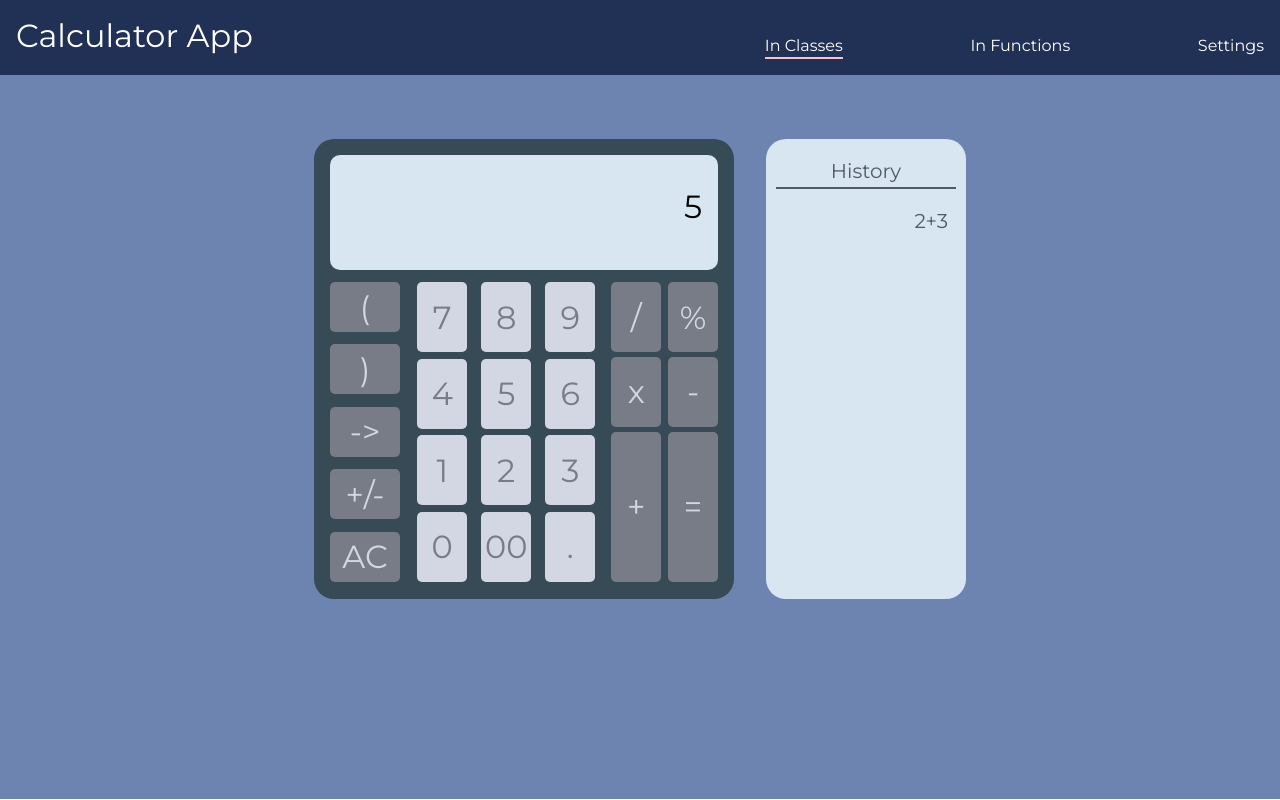
Test: Calculation operations › base 100 - 46 = 54
This screenshot has width=1280, height=800.
Click the button "1": (442, 470) left=417, top=435, right=467, bottom=505
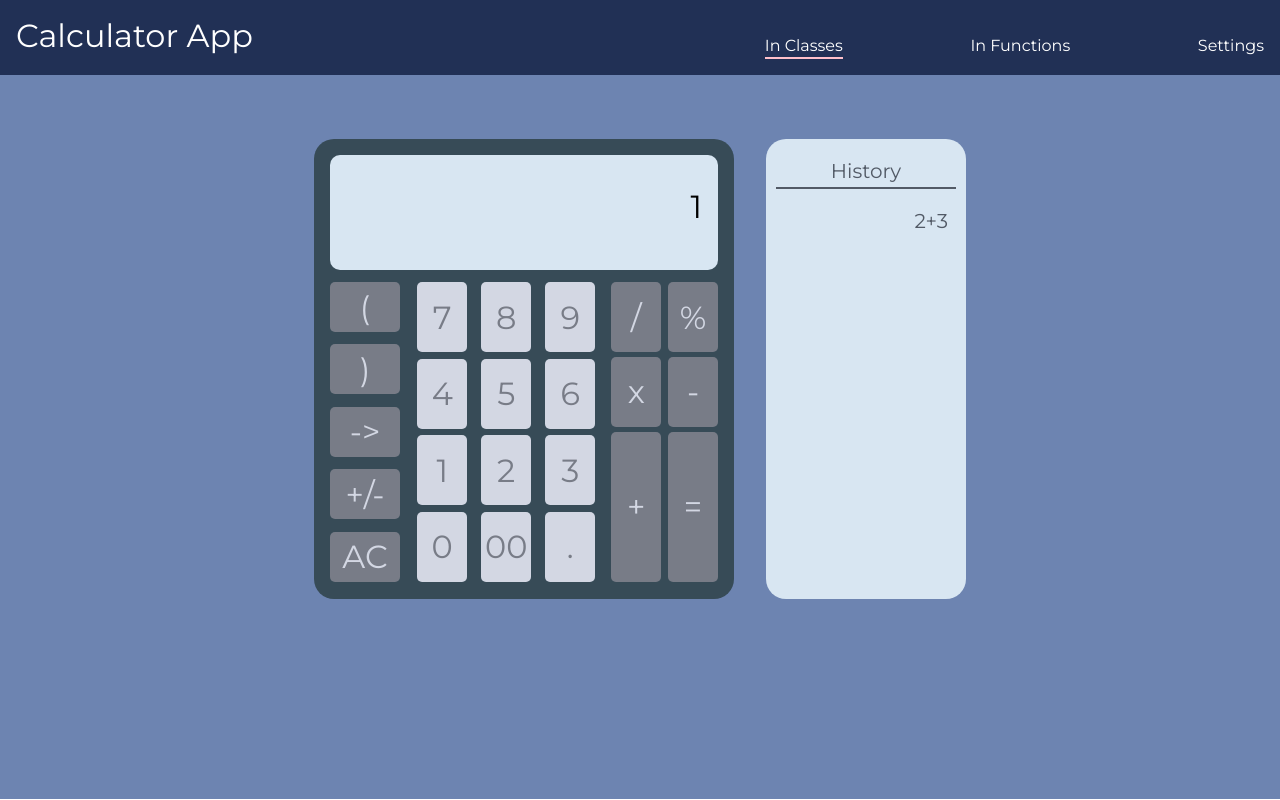
Click the button "00": (506, 547) left=481, top=512, right=531, bottom=582
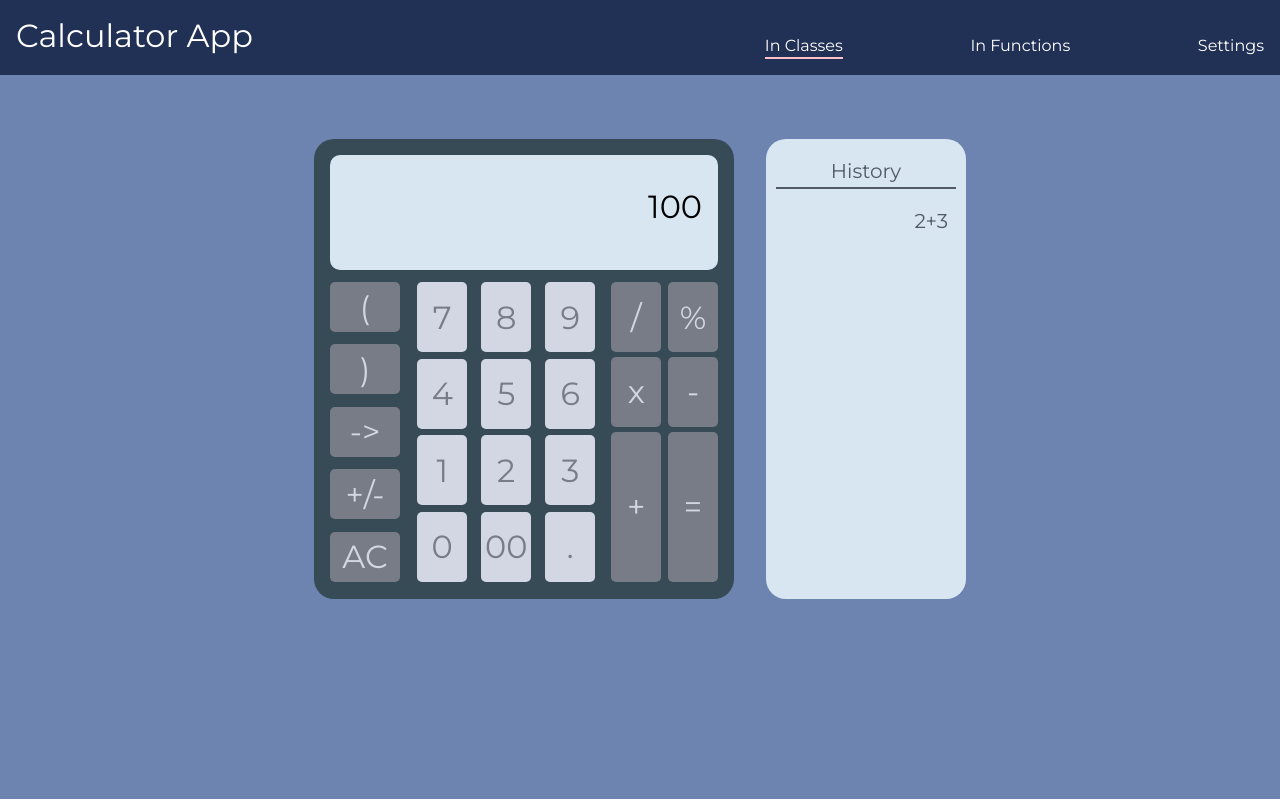
Click the button "-": (693, 392) left=668, top=357, right=718, bottom=427
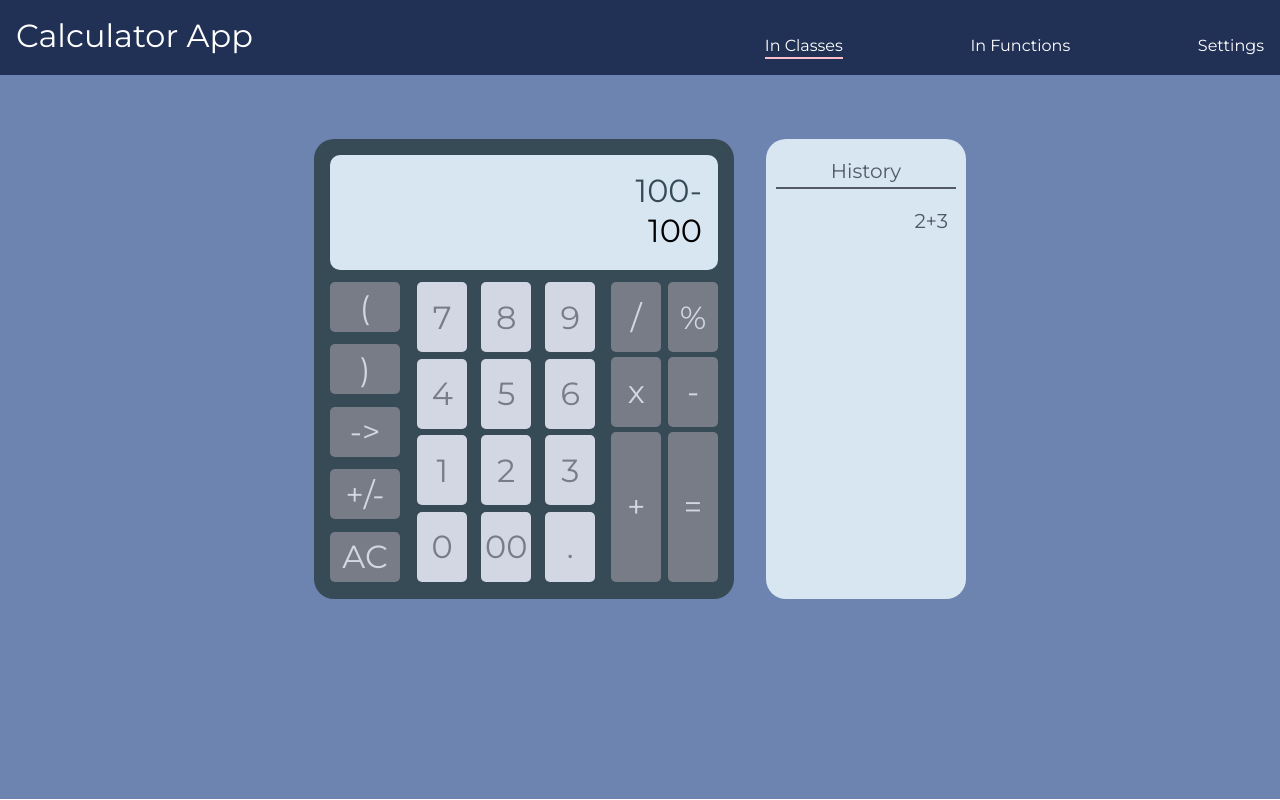
Click the button "4": (442, 394) left=417, top=359, right=467, bottom=429
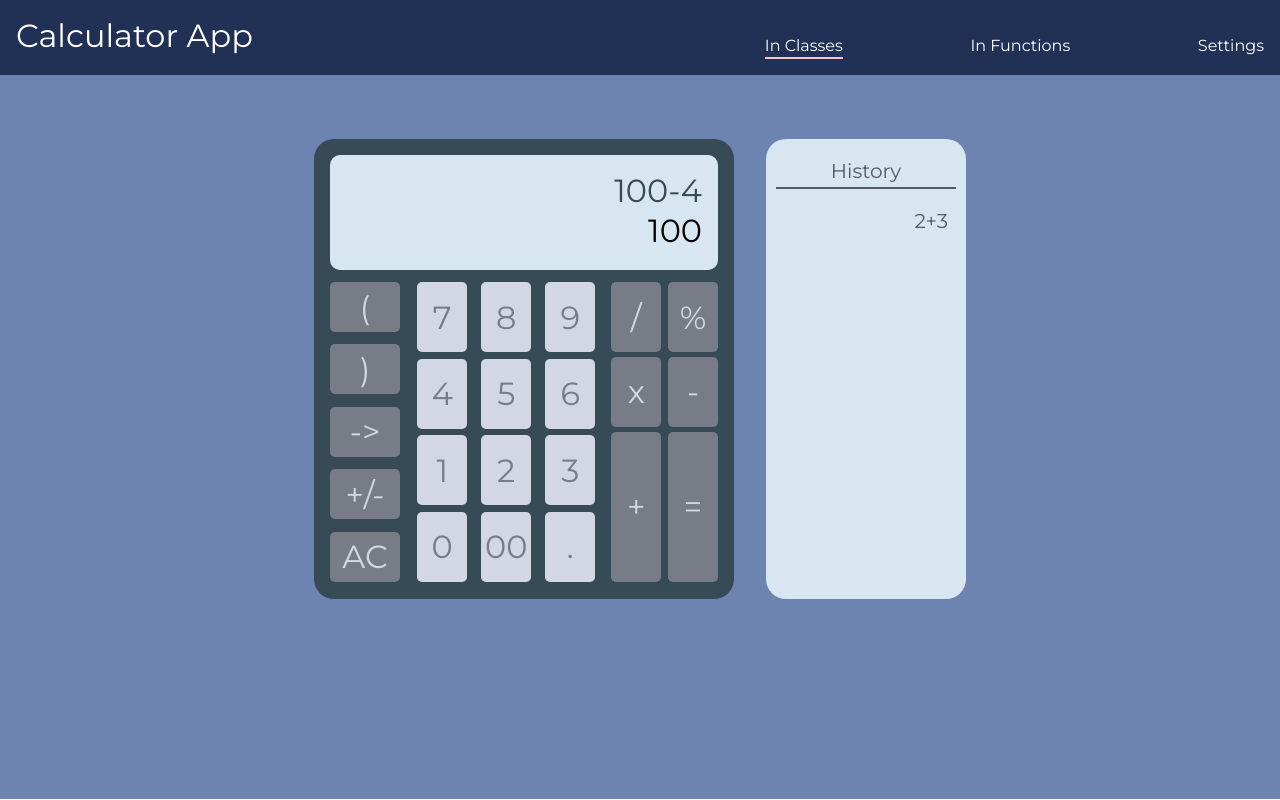
Click the button "6": (570, 394) left=545, top=359, right=595, bottom=429
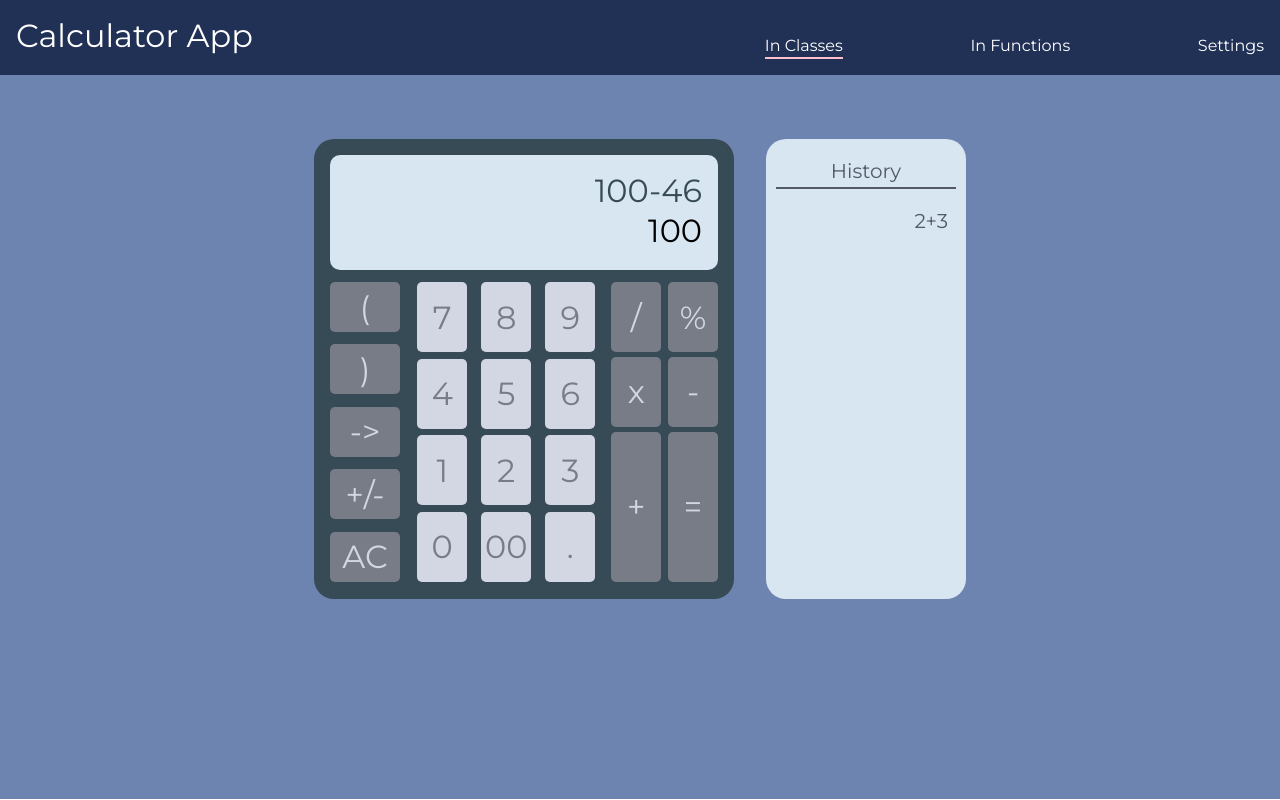
Check: the text with test id "expression-result" reads "100-46", box left=595, top=171, right=702, bottom=210
Click the button "=": (693, 507) left=668, top=432, right=718, bottom=582
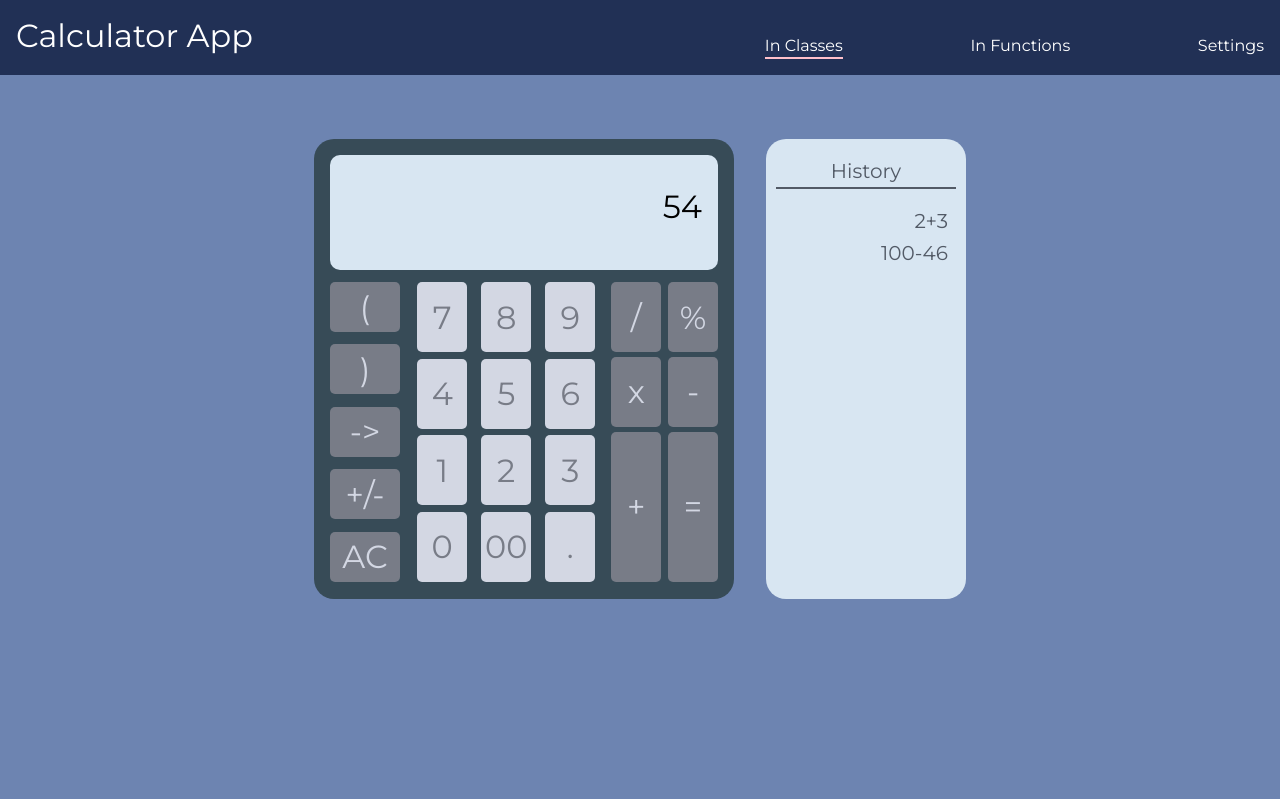
Check: the text with test id "expression-result" reads "54", box left=663, top=187, right=702, bottom=226
